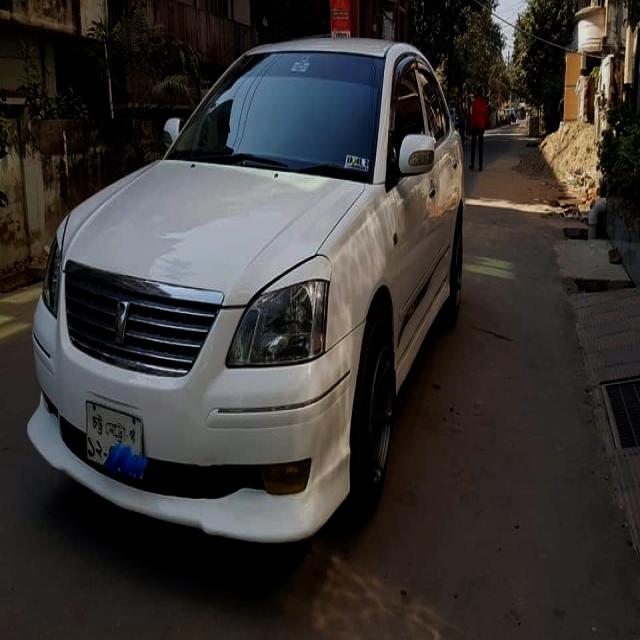white: (29, 34, 476, 545)
